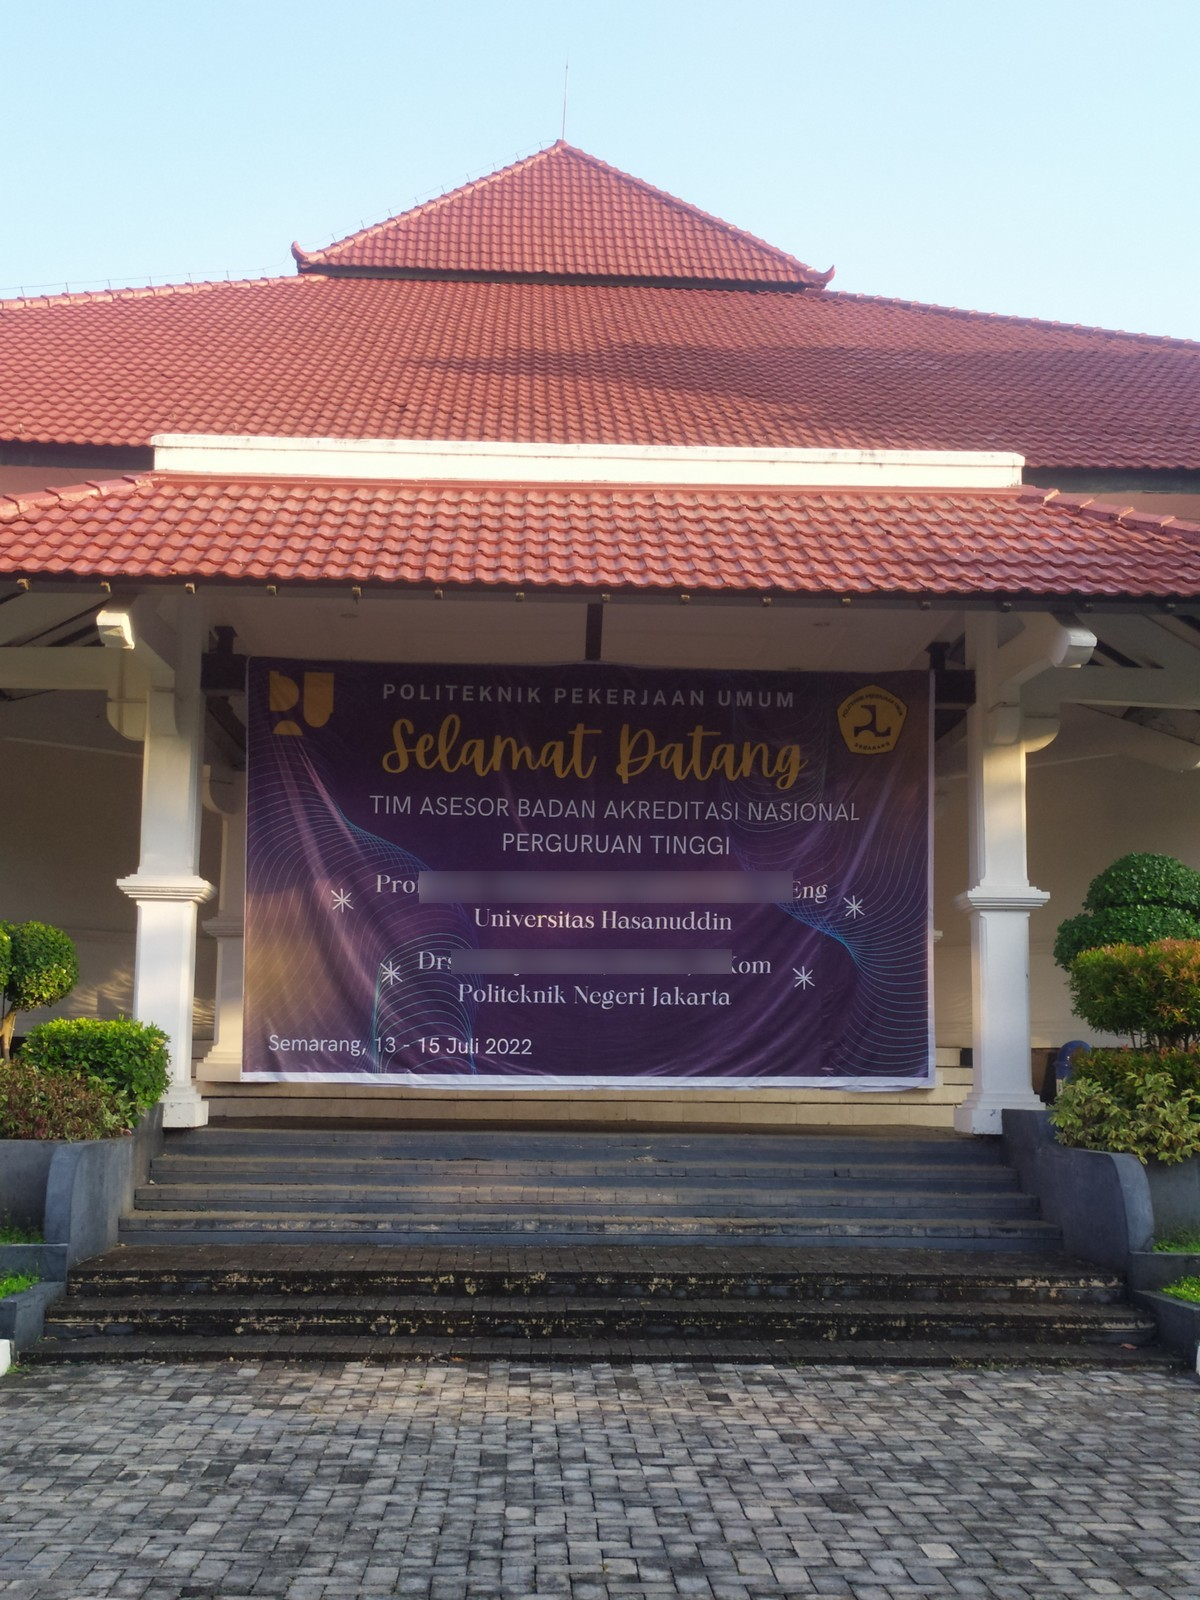concrete column: (961, 706, 1047, 1105), (122, 724, 204, 1100)
